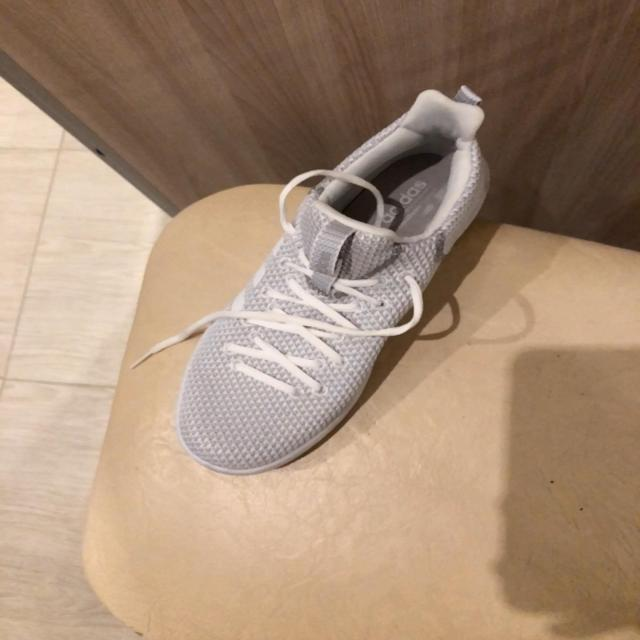shoe: (173, 87, 491, 480)
